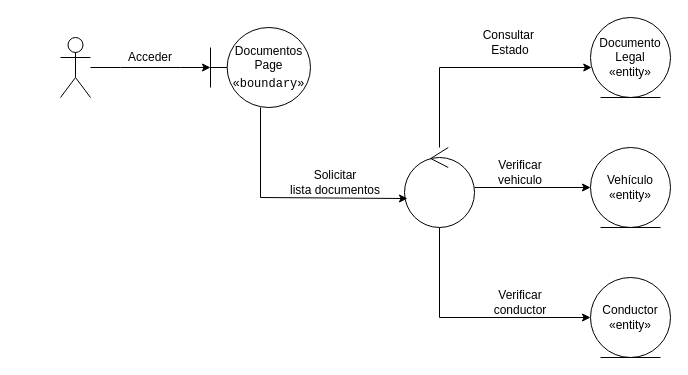
Image size: 688x375. Some labels were removed from this diagram. The shapes that lost their labels are listed below. From the top down, each one's centre as x and y in pixels, then its label:
the point at 75,67: Administrador de flota
the point at 439,187: Gestión Documental «control»
